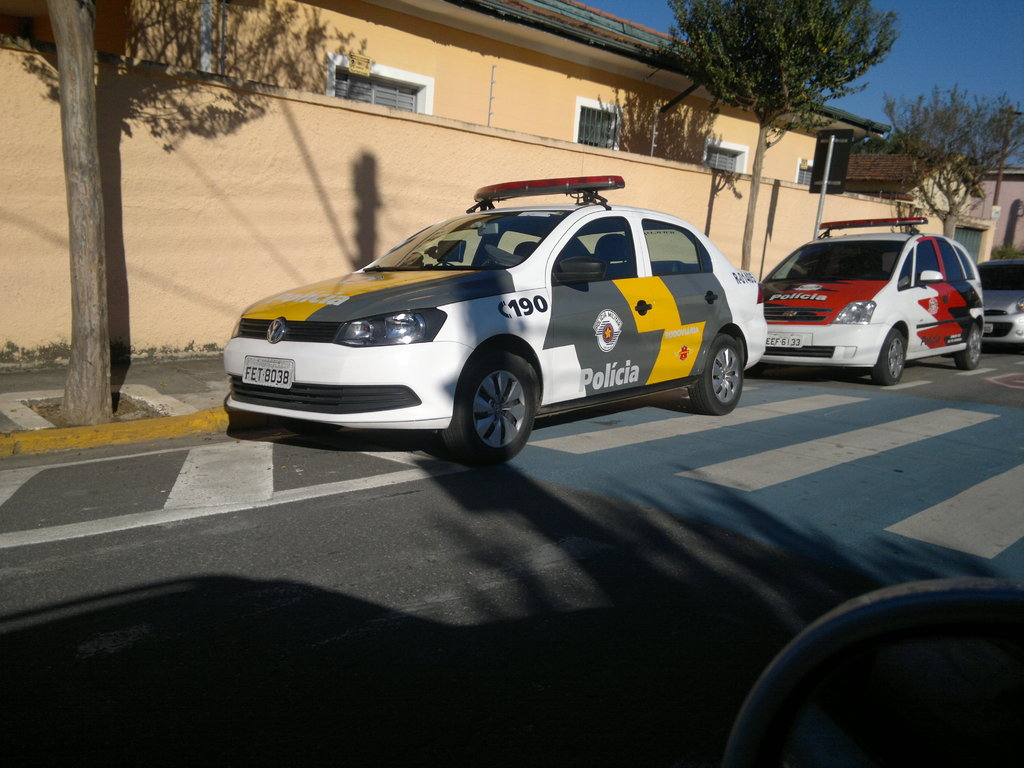Car: (217, 170, 768, 461), (757, 215, 984, 383), (972, 257, 1023, 346)
